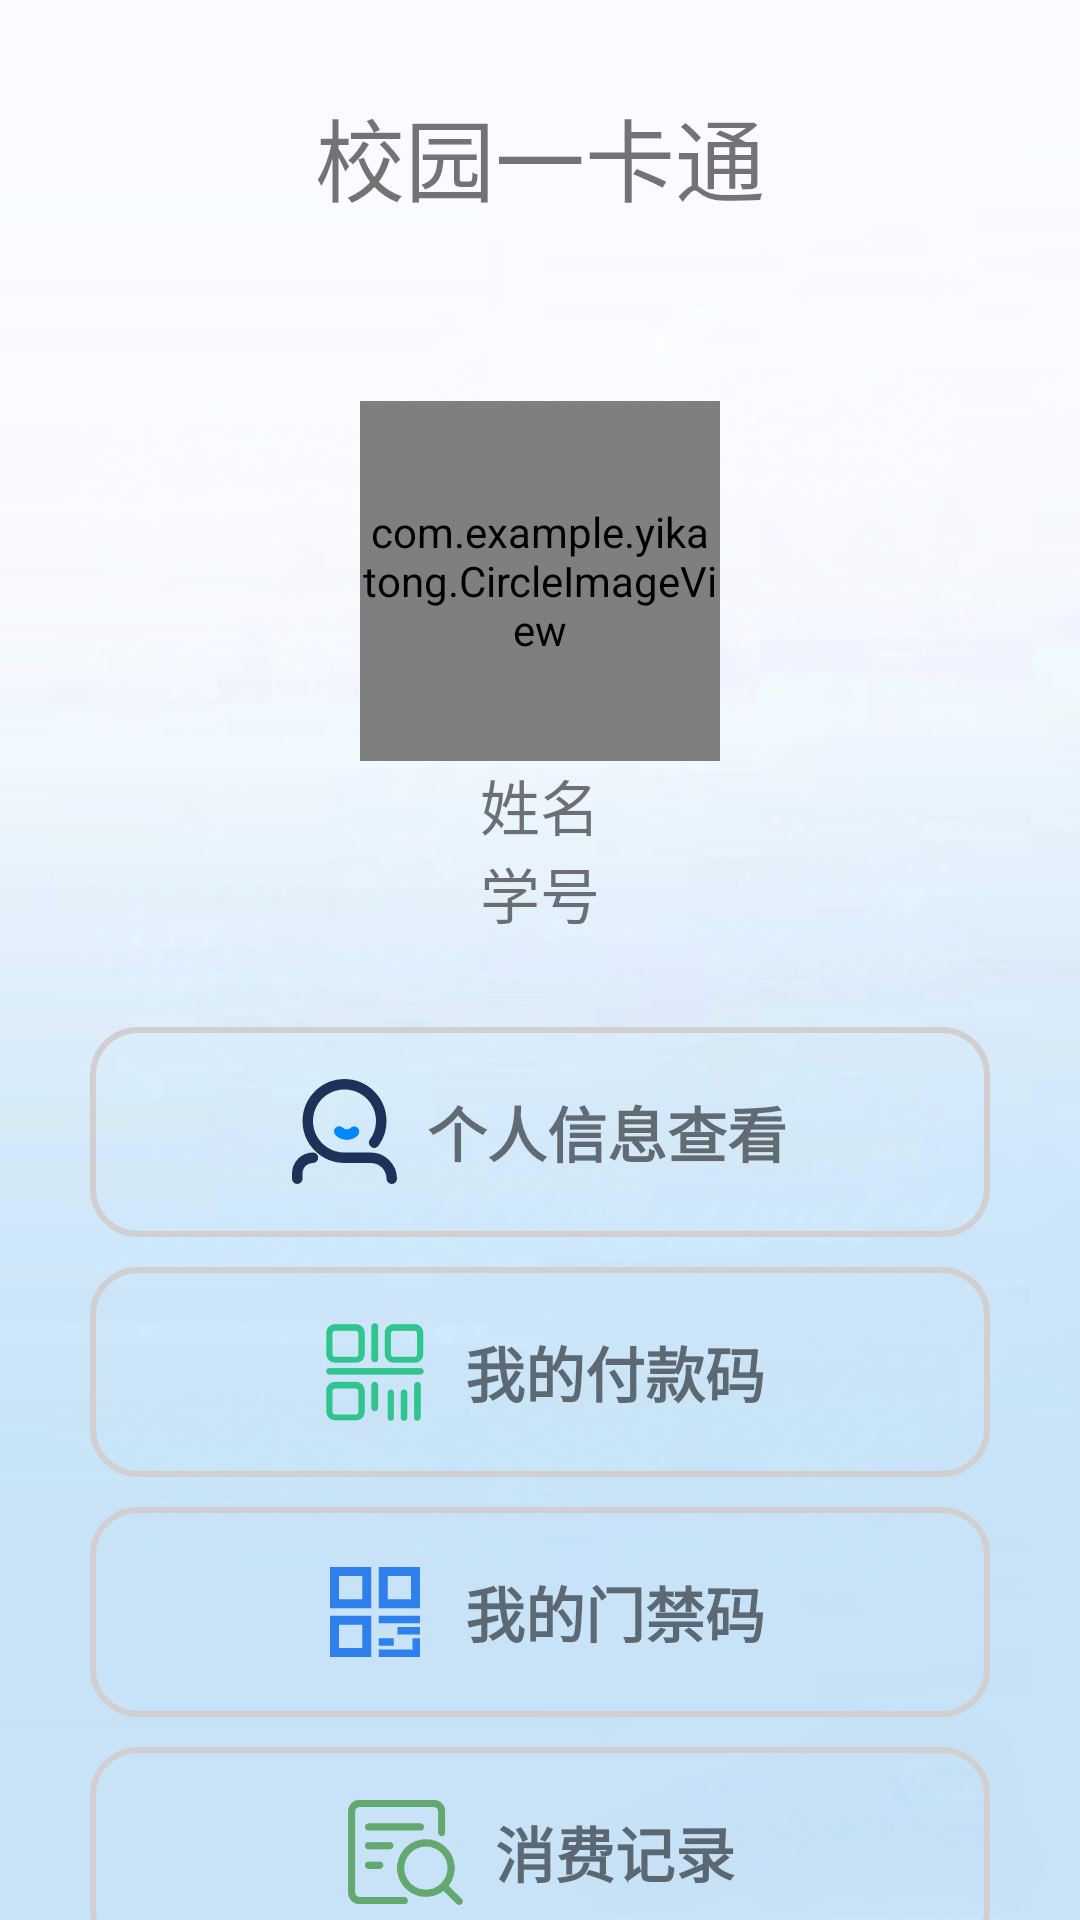

Named icons in this screenshot (1080 × 1920) and their bounding boxes, [x1, y1, x2, y2]:
fukuanma: [326, 1323, 424, 1421]
info: [292, 1079, 397, 1184]
menjinma: [330, 1567, 420, 1657]
xiaofeijilu: [348, 1800, 463, 1905]
